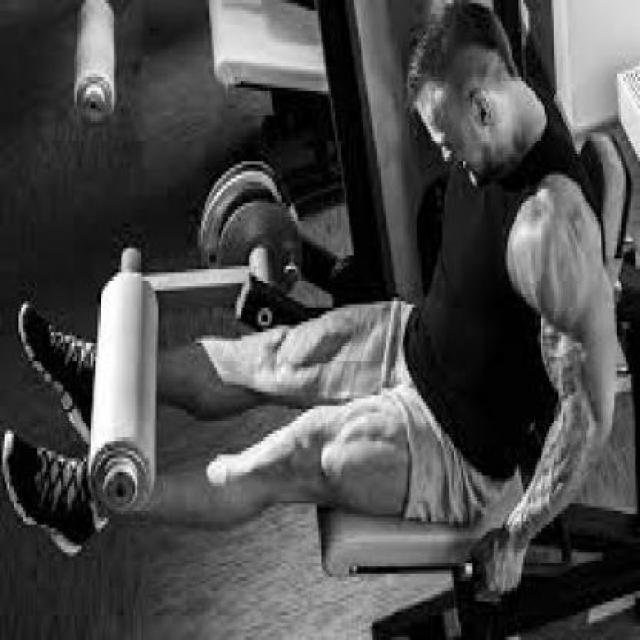leg extension: (0, 0, 628, 640)
